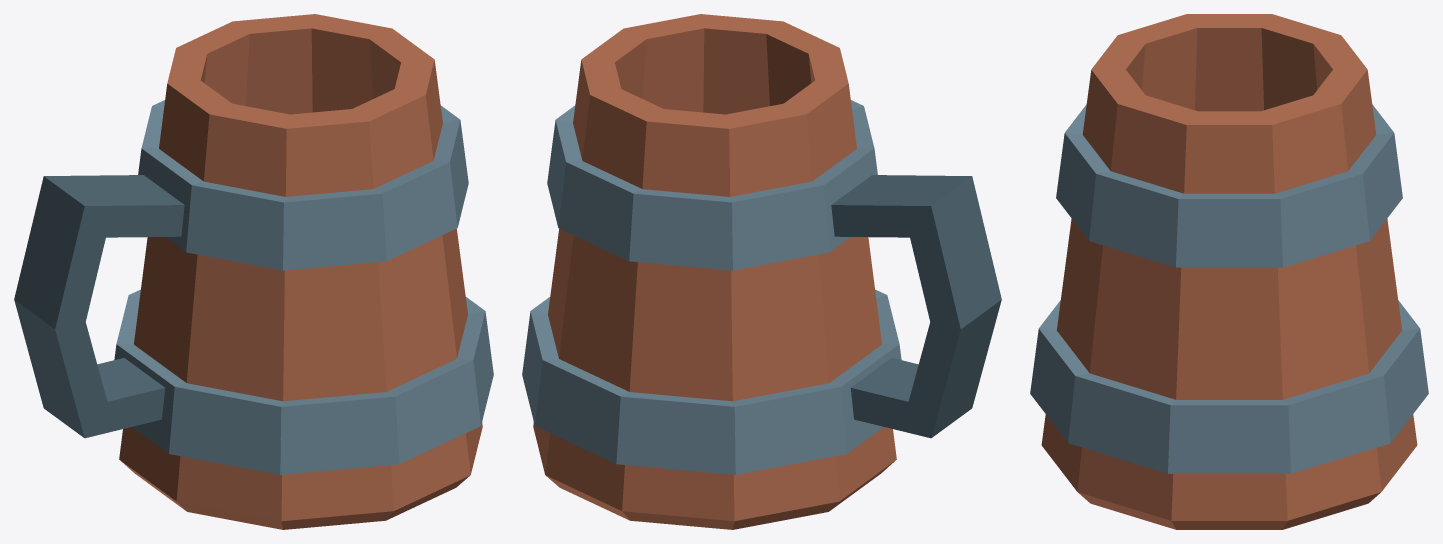
Rendered from Mug.fbx.
3 renders of one model, left to right at view 1: azimuth 30°, elevation 25°; view 2: azimuth 150°, elevation 25°; view 3: azimuth 270°, elevation 25°, orthographic.
Visible parts, largest first — view 1: Mug; view 2: Mug; view 3: Mug.
Boxes of the visible parts, left/top/right/bottom form: Mug: left=14, top=14, right=493, bottom=529; Mug: left=522, top=14, right=1001, bottom=529; Mug: left=1030, top=14, right=1428, bottom=529.
Size of the model in its own units: 0.2898 by 0.2309 by 0.25.
